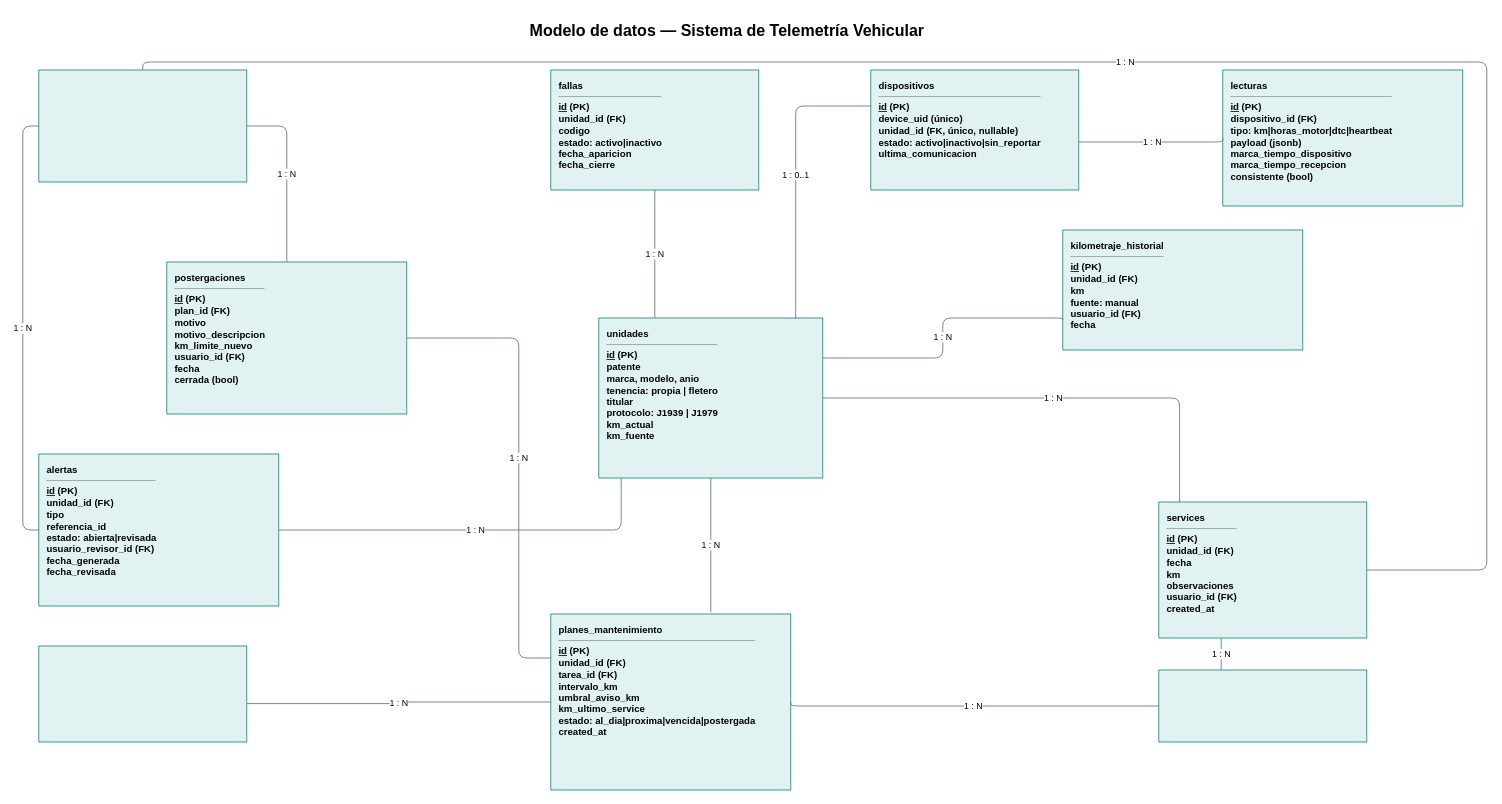
This 1502x804 diagram has some shape labels left out. The shapes that lost their labels are listed below. From the top down, each one's centre as x and y in pixels, then its label:
At point 142,125: "usuarios id (PK) email nombre rol: admin | mantenimiento created_at".
At point 142,693: "tareas_catalogo id (PK) nombre intervalo_km_default umbral_aviso_km_default".
At point 1262,705: "service_tareas service_id (FK, PK) plan_id (FK, PK)".
